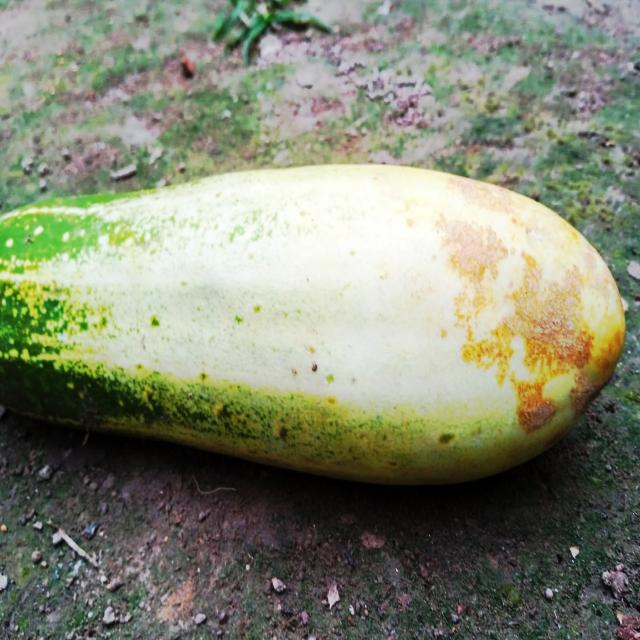Belly-Rot: (430, 170, 625, 442)
